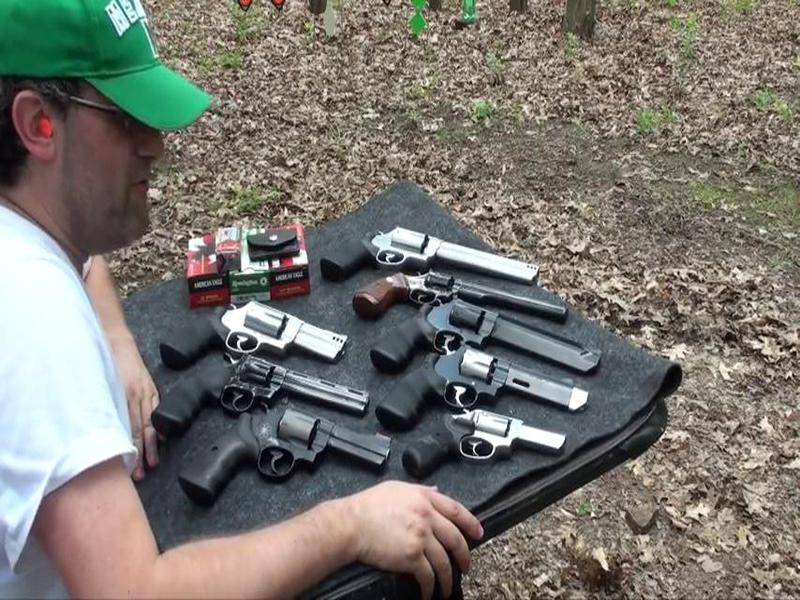Revolver: (304, 208, 562, 295)
